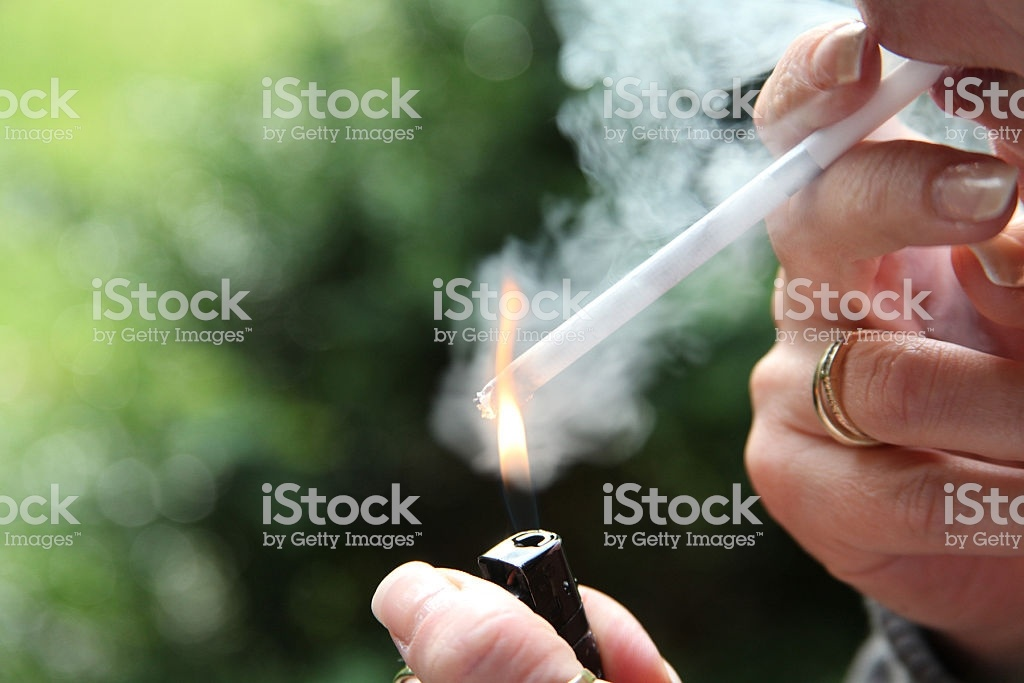sigaretta: (461, 43, 954, 425)
